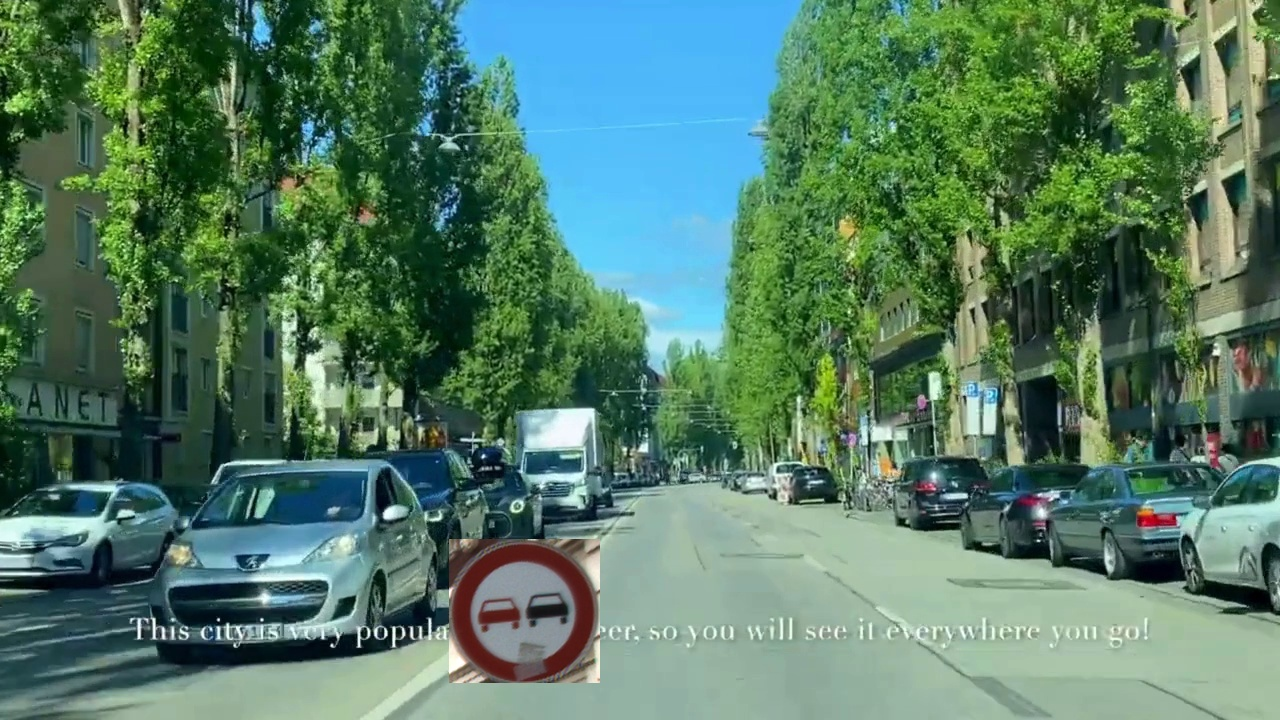No passing: (449, 539, 600, 683)
